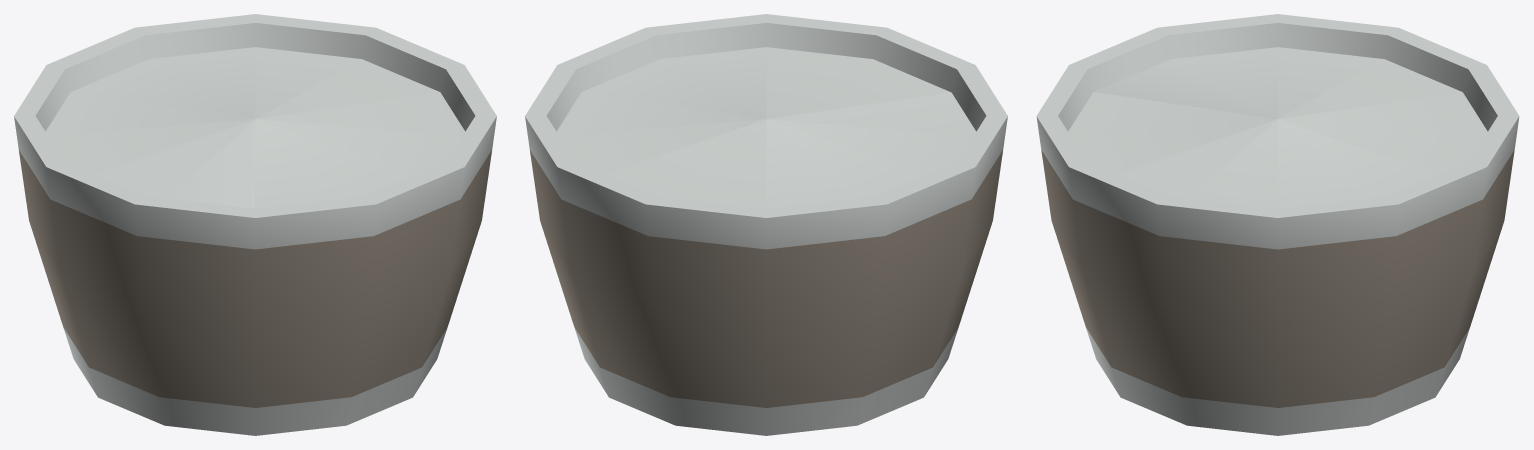
3 renders of one model, left to right at view 1: azimuth 30°, elevation 25°; view 2: azimuth 150°, elevation 25°; view 3: azimuth 270°, elevation 25°, orthographic.
Parts seen in each view (by area): view 1: G:\FFXIV-MapTools\exports\s1f3\bg\ffxiv\sea_s1\fld\s1f3\bgpa (×3); view 2: G:\FFXIV-MapTools\exports\s1f3\bg\ffxiv\sea_s1\fld\s1f3\bgpa (×3); view 3: G:\FFXIV-MapTools\exports\s1f3\bg\ffxiv\sea_s1\fld\s1f3\bgpa (×3).
Part boxes in pixels (x1,y1,x2,y2): G:\FFXIV-MapTools\exports\s1f3\bg\ffxiv\sea_s1\fld\s1f3\bgpa (×3): [14, 14, 496, 435]; G:\FFXIV-MapTools\exports\s1f3\bg\ffxiv\sea_s1\fld\s1f3\bgpa (×3): [525, 14, 1007, 435]; G:\FFXIV-MapTools\exports\s1f3\bg\ffxiv\sea_s1\fld\s1f3\bgpa (×3): [1036, 14, 1519, 435].
Size of the model in its own units: 0.8701 by 0.4836 by 0.8701.
